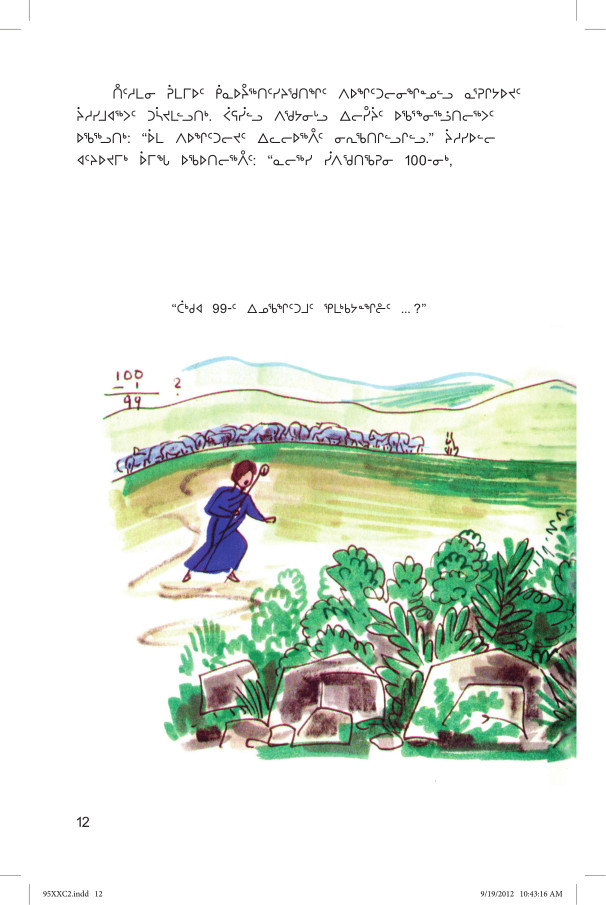inuktitut: (68, 77, 526, 174), (162, 293, 431, 318)
